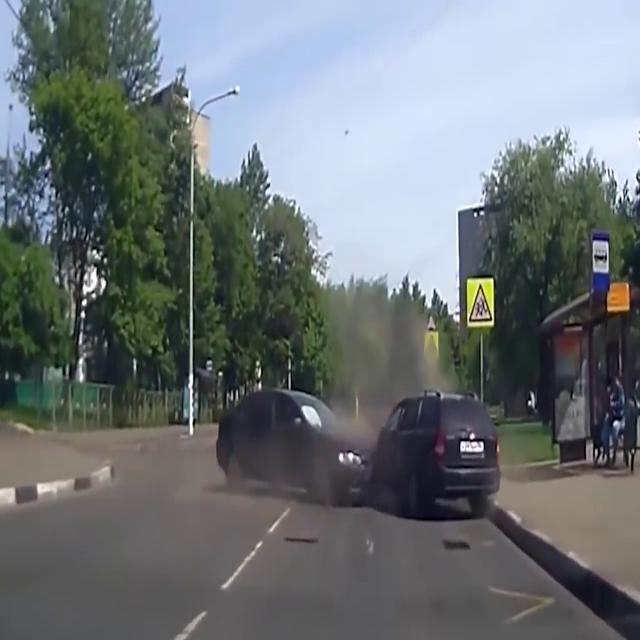multiple_accident: (209, 350, 523, 523)
